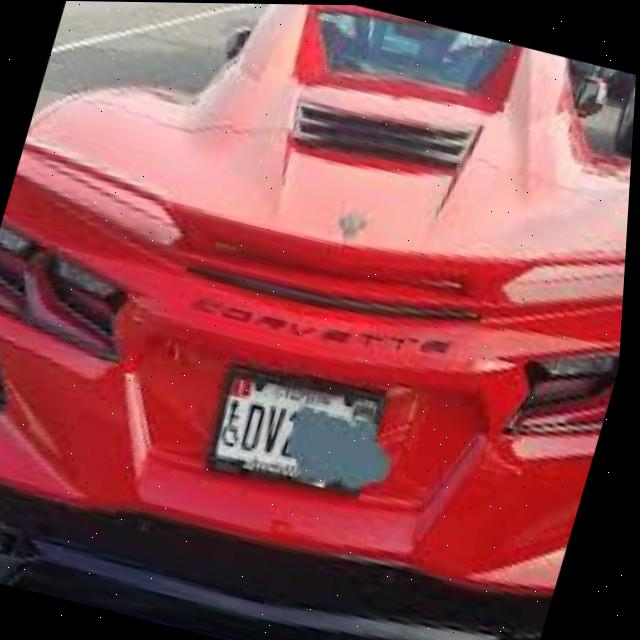symbol_of_access: (218, 395, 262, 459)
